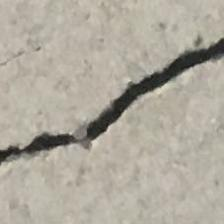Crack: (0, 38, 224, 158)
